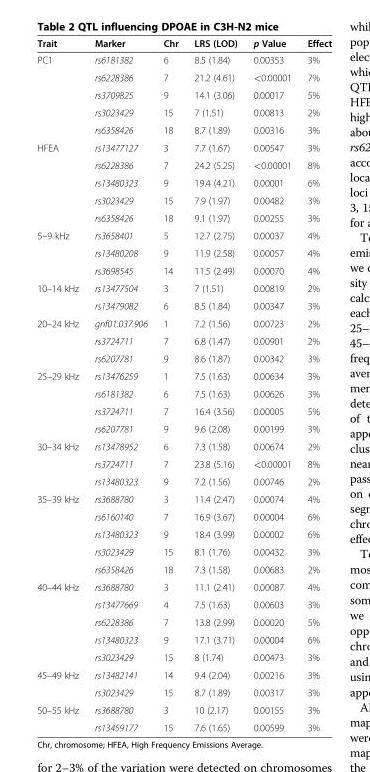table: (36, 37, 331, 732)
table column: (85, 37, 154, 732), (185, 37, 244, 732), (244, 37, 298, 732), (36, 37, 85, 732), (298, 37, 331, 732), (154, 37, 185, 732)
table column header: (36, 37, 331, 51)
table row: (36, 85, 331, 103), (36, 120, 331, 138), (36, 138, 331, 156), (36, 173, 331, 191), (36, 208, 331, 226), (36, 243, 331, 261), (36, 261, 331, 279), (36, 296, 331, 314), (36, 331, 331, 349), (36, 366, 331, 384), (36, 384, 331, 402), (36, 419, 331, 437), (36, 454, 331, 472), (36, 489, 331, 507), (36, 507, 331, 525), (36, 542, 331, 560), (36, 577, 331, 595), (36, 595, 331, 613), (36, 630, 331, 648), (36, 665, 331, 683), (36, 700, 331, 718), (36, 51, 331, 68), (36, 68, 331, 85), (36, 103, 331, 120), (36, 156, 331, 173), (36, 191, 331, 208), (36, 226, 331, 243), (36, 279, 331, 296), (36, 314, 331, 331), (36, 349, 331, 366), (36, 402, 331, 419), (36, 437, 331, 454), (36, 472, 331, 489), (36, 525, 331, 542), (36, 560, 331, 577), (36, 613, 331, 630), (36, 648, 331, 665), (36, 683, 331, 700), (36, 37, 331, 51), (36, 718, 331, 732)
table spanning cell: (36, 138, 85, 226), (36, 489, 85, 577), (36, 577, 85, 665), (36, 51, 85, 138), (36, 366, 85, 437), (36, 226, 85, 279), (36, 314, 85, 366), (36, 437, 85, 489), (36, 279, 85, 314), (36, 665, 85, 700), (36, 700, 85, 732)
